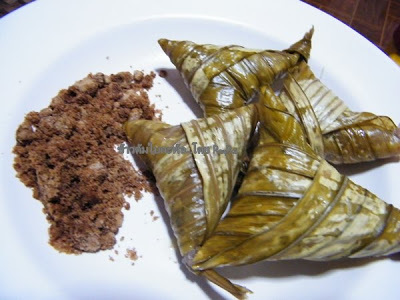kanomtom: (213, 72, 400, 271), (122, 95, 264, 283)
